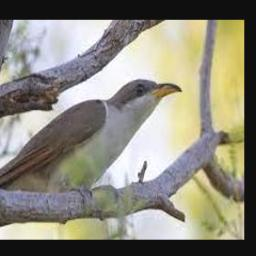Cuckoo: (0, 78, 181, 193)
